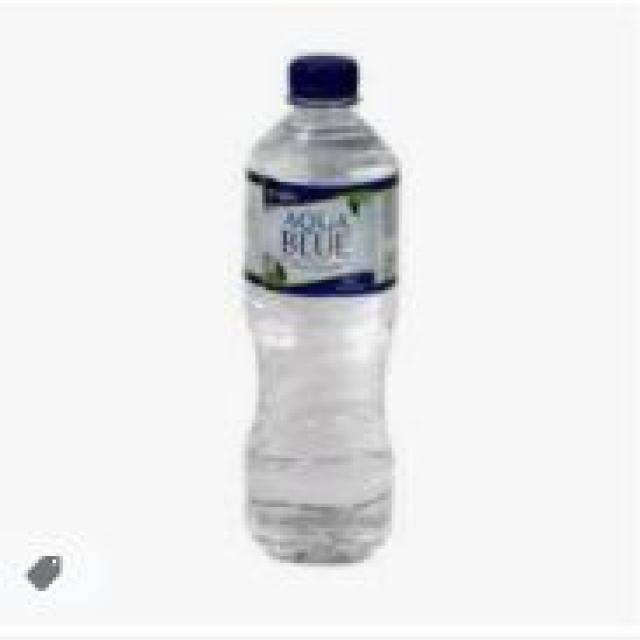bottle: (232, 49, 411, 570)
